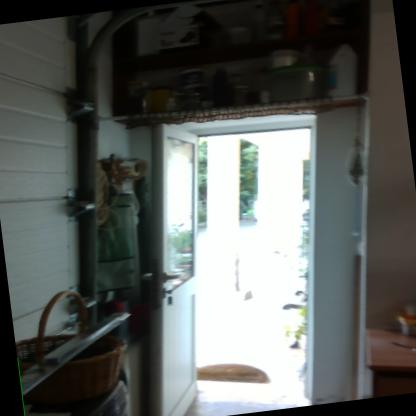open: (130, 91, 408, 415)
